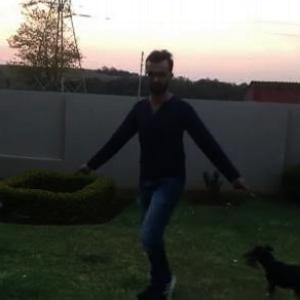land: (93, 56, 232, 295)
